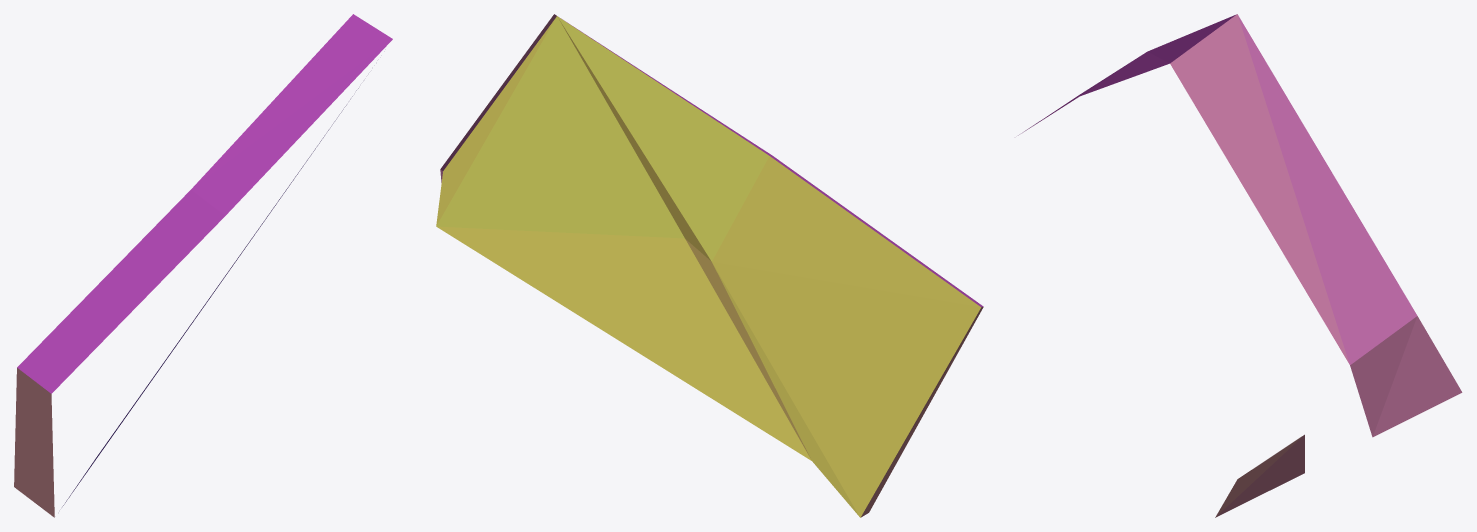
The picture shows the model from 3 angles, left to right: view 1: azimuth 30°, elevation 25°; view 2: azimuth 150°, elevation 25°; view 3: azimuth 270°, elevation 25°; orthographic projection. The views are drawn at different scales.
Parts seen in each view (by area): view 1: geometry_0; view 2: geometry_0; view 3: geometry_0.
Part boxes in pixels (x1,y1,x2,y2): geometry_0: (14,14,392,517); geometry_0: (436,14,983,517); geometry_0: (1018,14,1462,517).
Size of the model in its own units: 21.75 by 19 by 10.
